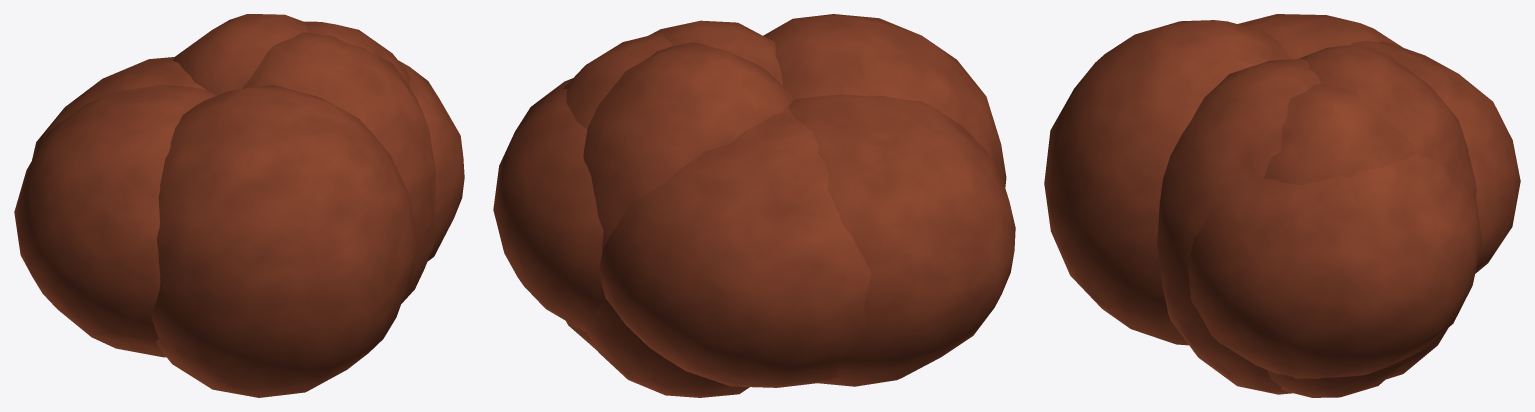
File: pv_hromada_ruda.glb
The picture shows the model from 3 angles, left to right: view 1: azimuth 30°, elevation 25°; view 2: azimuth 150°, elevation 25°; view 3: azimuth 270°, elevation 25°; orthographic projection. The views are drawn at different scales.
Visible parts, largest first — view 1: dum; view 2: dum; view 3: dum.
Boxes of the visible parts, bbox=[...] form: dum: bbox=[14, 14, 464, 397]; dum: bbox=[493, 14, 1015, 397]; dum: bbox=[1044, 14, 1520, 397].
Bounding box in the file's own units: 11.06 × 7.69 × 10.24.
Materials: 1 (1 with a texture image).
